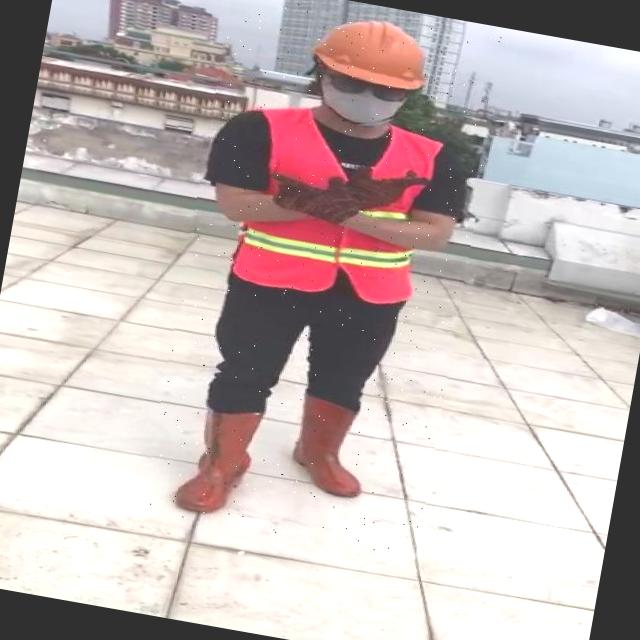boots: (173, 397, 264, 520), (282, 394, 373, 499)
helmet: (303, 5, 439, 96)
vest: (226, 104, 448, 313)
